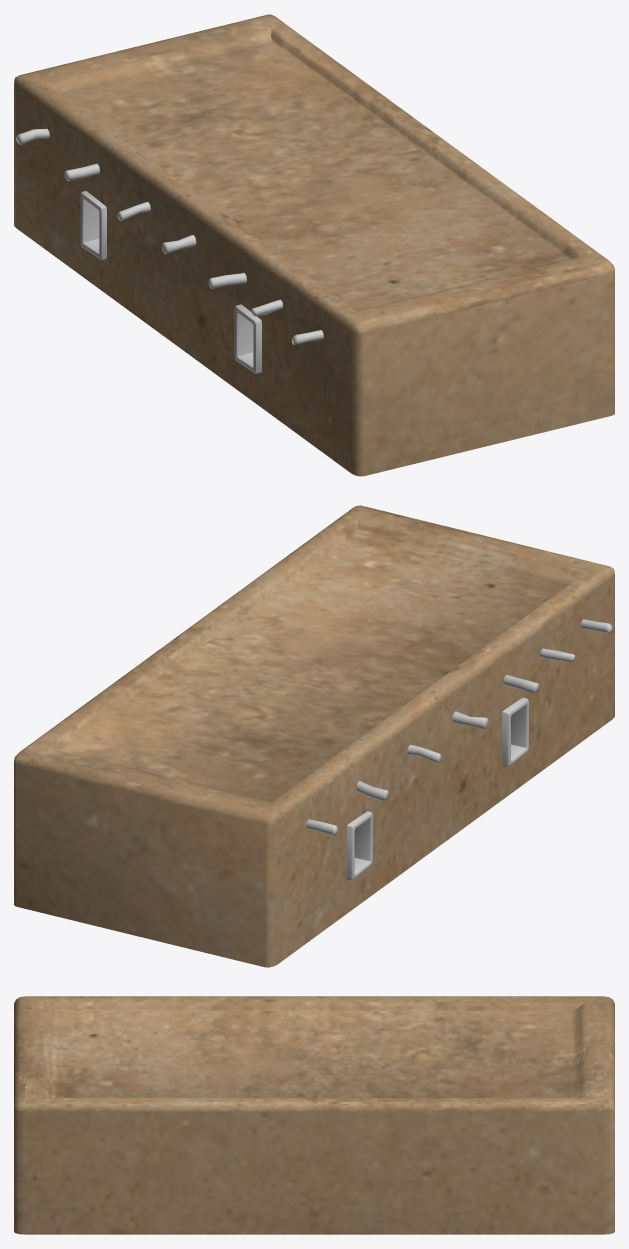
The model's file is Type1_6.fbx.
3 views of the same model, one above another, from view 1: azimuth 30°, elevation 25°; view 2: azimuth 150°, elevation 25°; view 3: azimuth 270°, elevation 25° (orthographic). The views are drawn at different scales.
Visible parts, largest first — view 1: MAINWALL.008, WOODENPARTS.011; view 2: MAINWALL.008, WOODENPARTS.011; view 3: MAINWALL.008.
Boxes of the visible parts, box(x1,y1,x2,y2) form: MAINWALL.008: box(14, 14, 614, 476); WOODENPARTS.011: box(16, 128, 323, 373); MAINWALL.008: box(14, 505, 614, 967); WOODENPARTS.011: box(306, 619, 612, 880); MAINWALL.008: box(14, 996, 614, 1234).
Bounding box in the file's own units: 799 × 390 × 1632.
